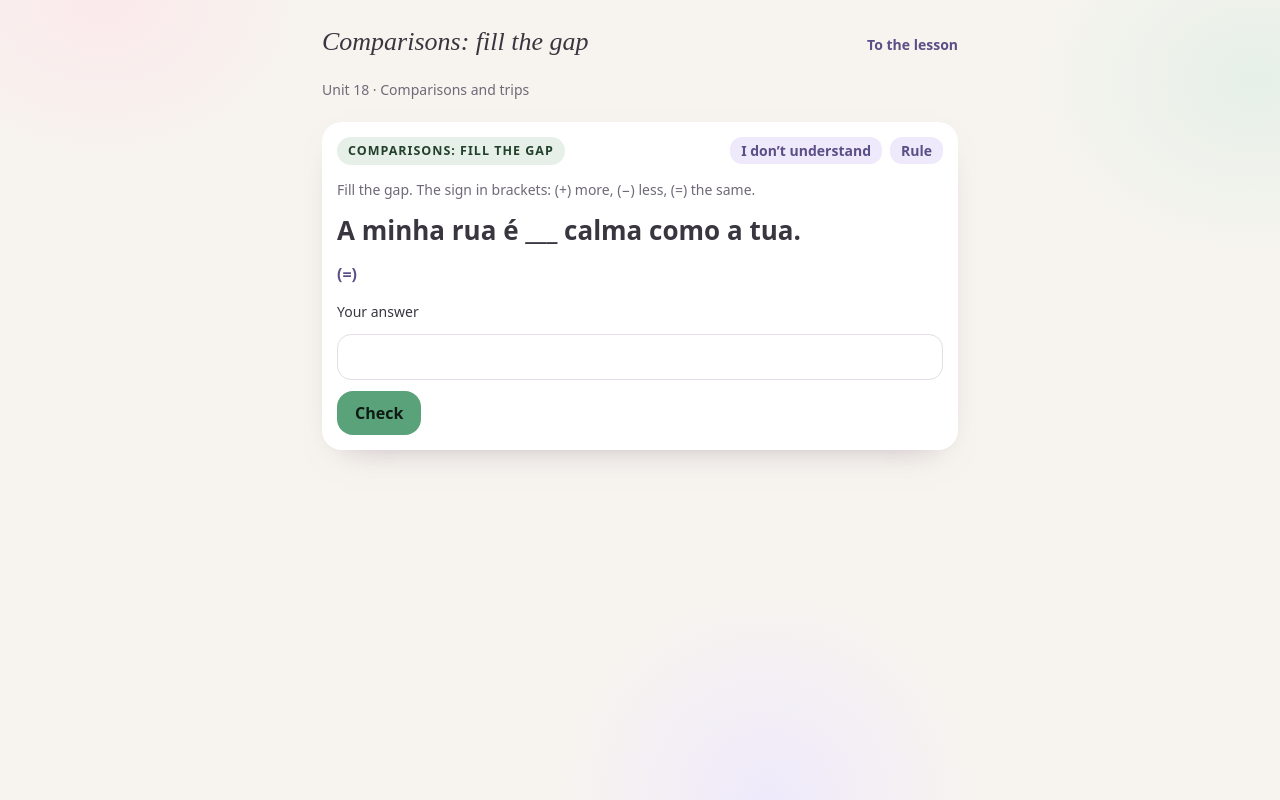
Test case: PackDrill › right words without their accents are an accent slip, logged as such
The image size is (1280, 800).
Expected: the text with test id "pack-drill-prompt" reads "A minha rua é ___ calma como a tua.", [337, 212, 801, 248]
Type "tao" into the field with test id "pack-drill-answer" at (640, 357), box [337, 334, 943, 380]
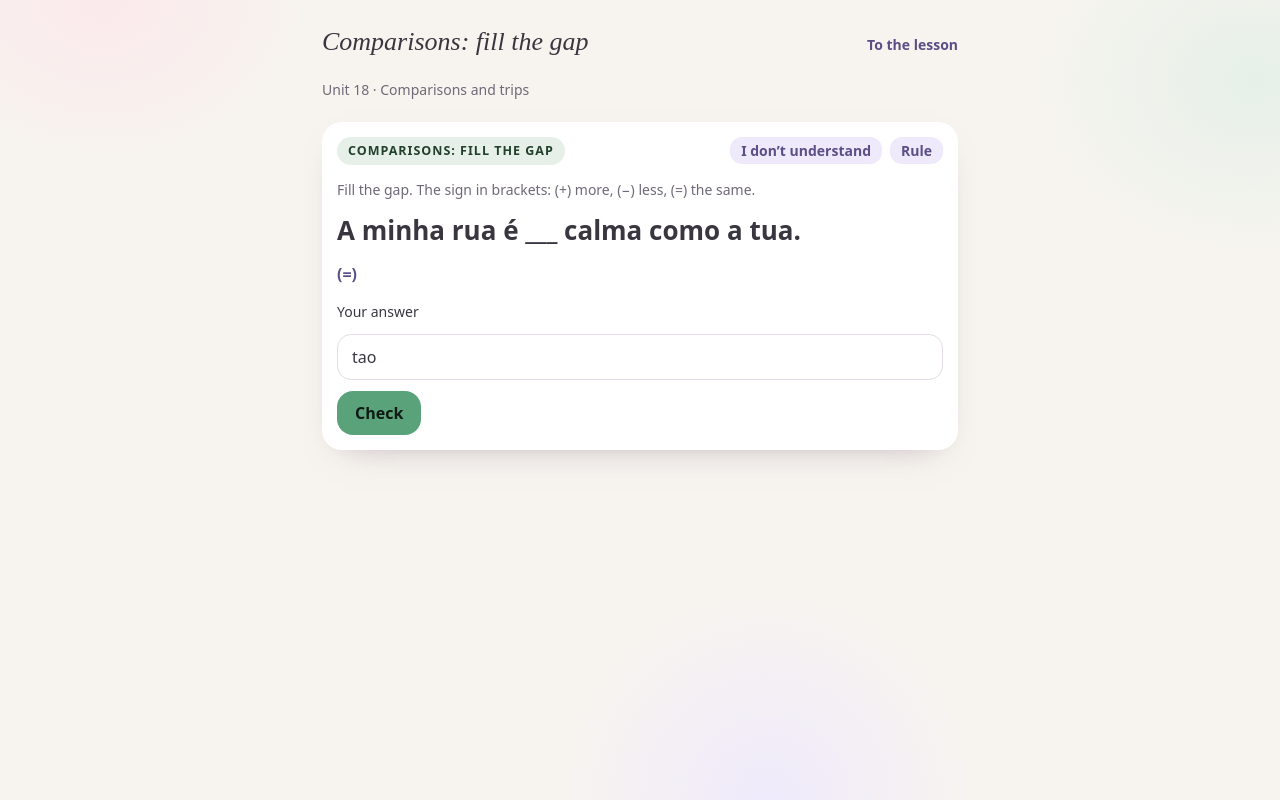
Click the button "Check" at (379, 413), box [337, 391, 421, 435]
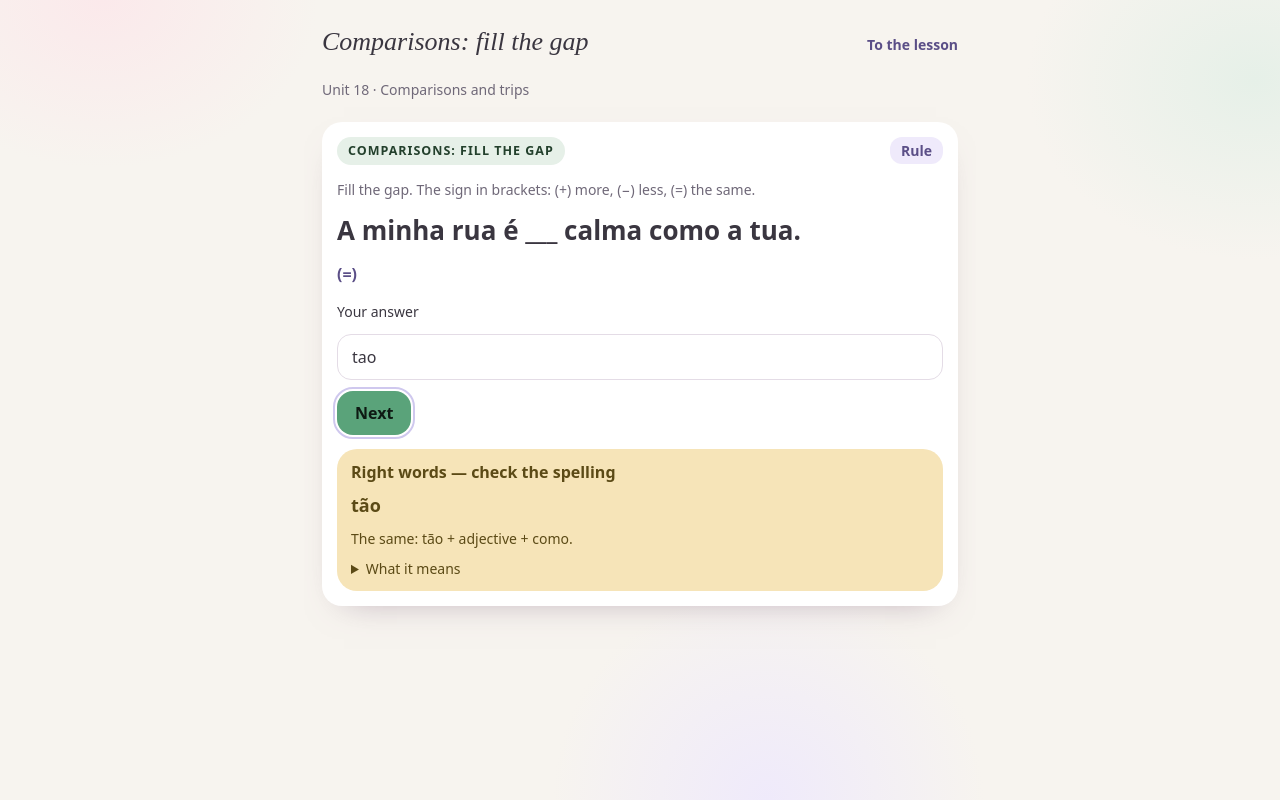
Expected: the text with test id "pack-drill-expected" reads "tão", [351, 493, 381, 517]
